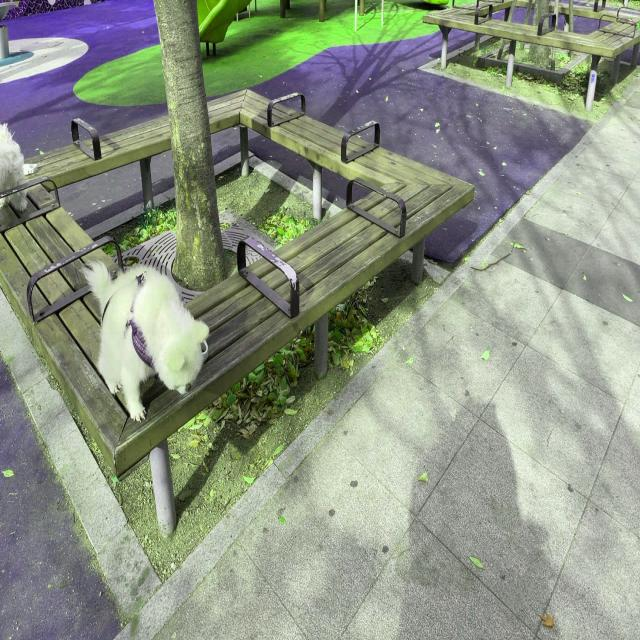Dog: (80, 263, 210, 422)
